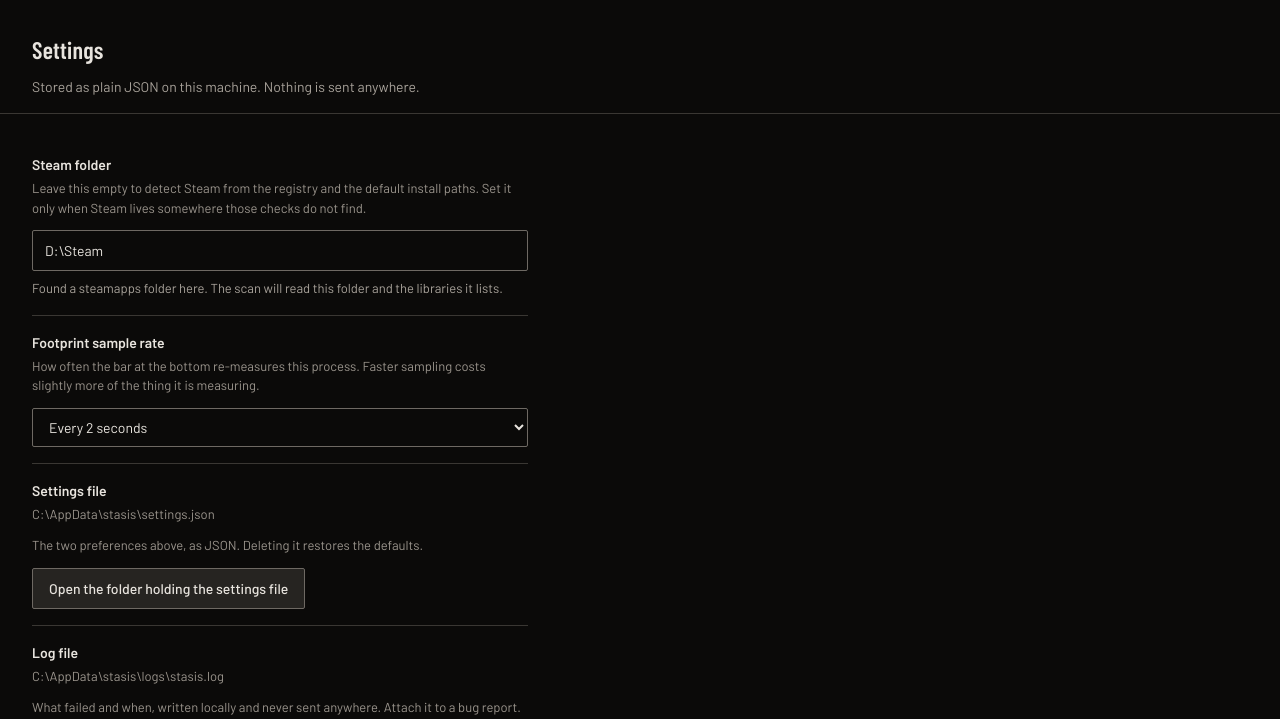
Test case: when the check runs › checks again when the field is left
expect the text "Found a steamapps folder here" is shown: met, box x1=32 y1=280 x2=503 y2=296
Replace the text in the field labelled "Steam folder" with "D:\\Typo": (280, 250) x1=32 y1=230 x2=528 y2=271
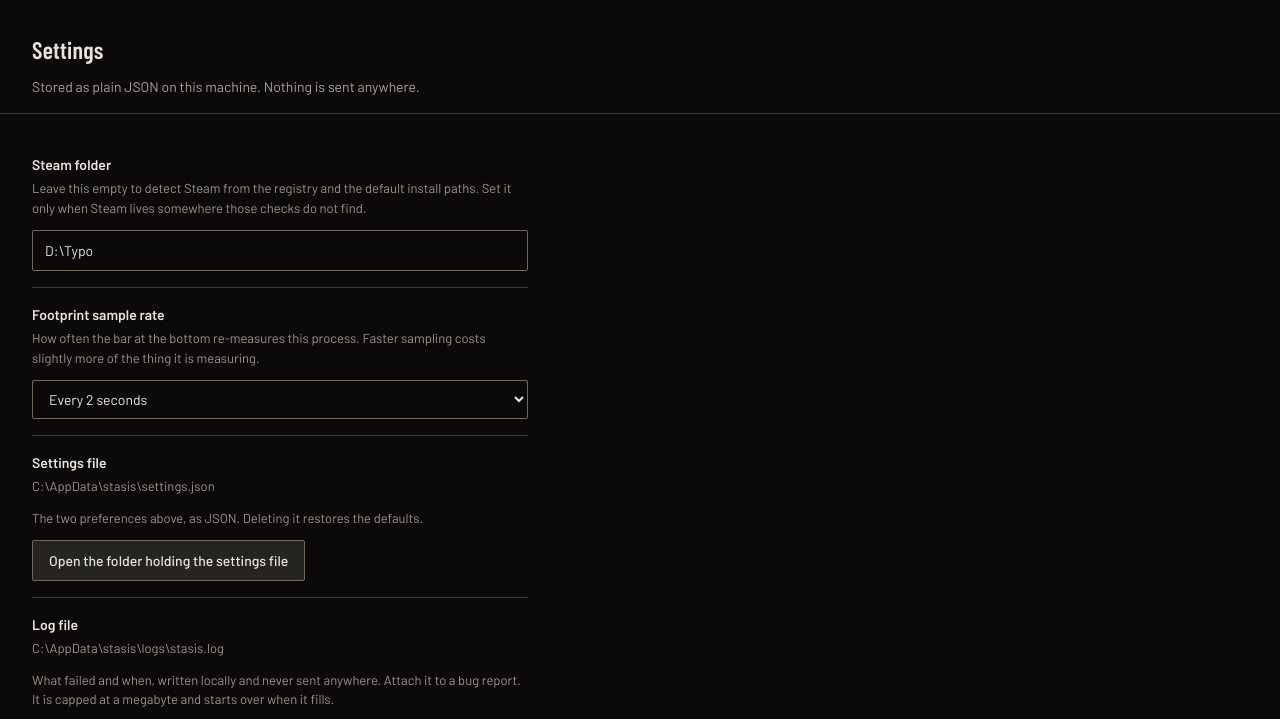
Leave the field labelled "Steam folder", box x1=32 y1=230 x2=528 y2=271
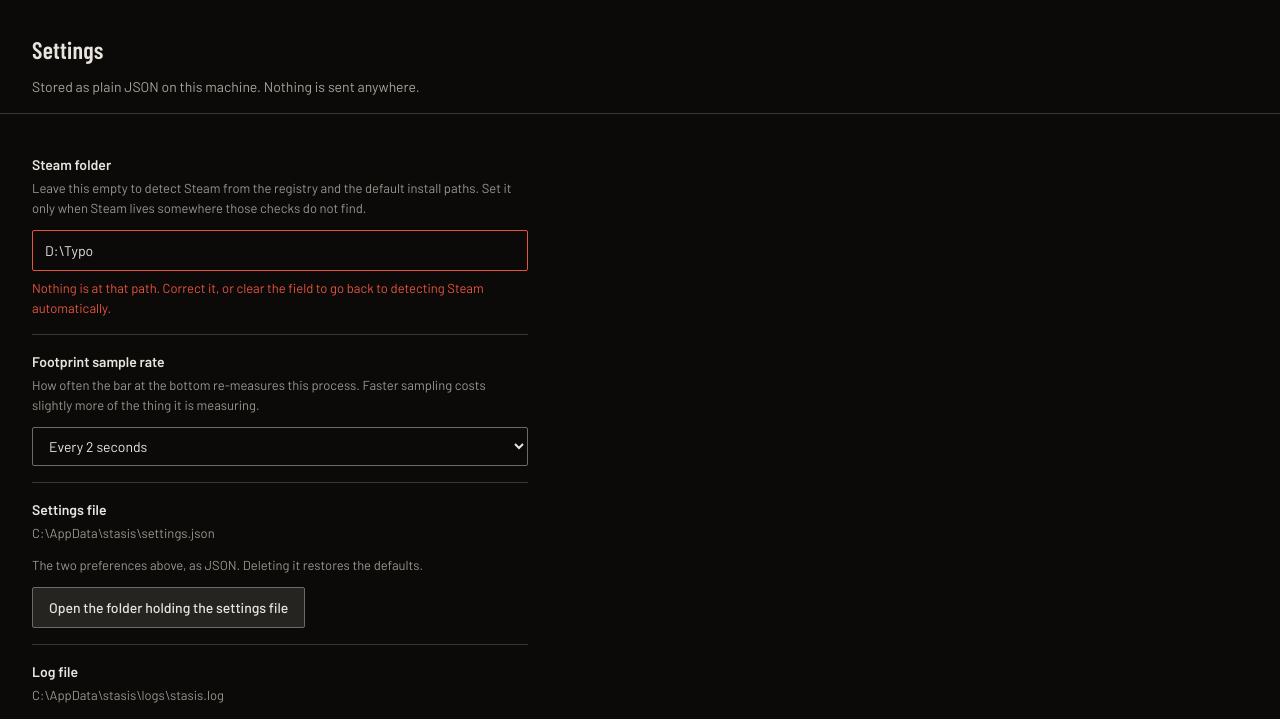
expect the text "Nothing is at that path" is shown: met, box x1=32 y1=280 x2=484 y2=316
